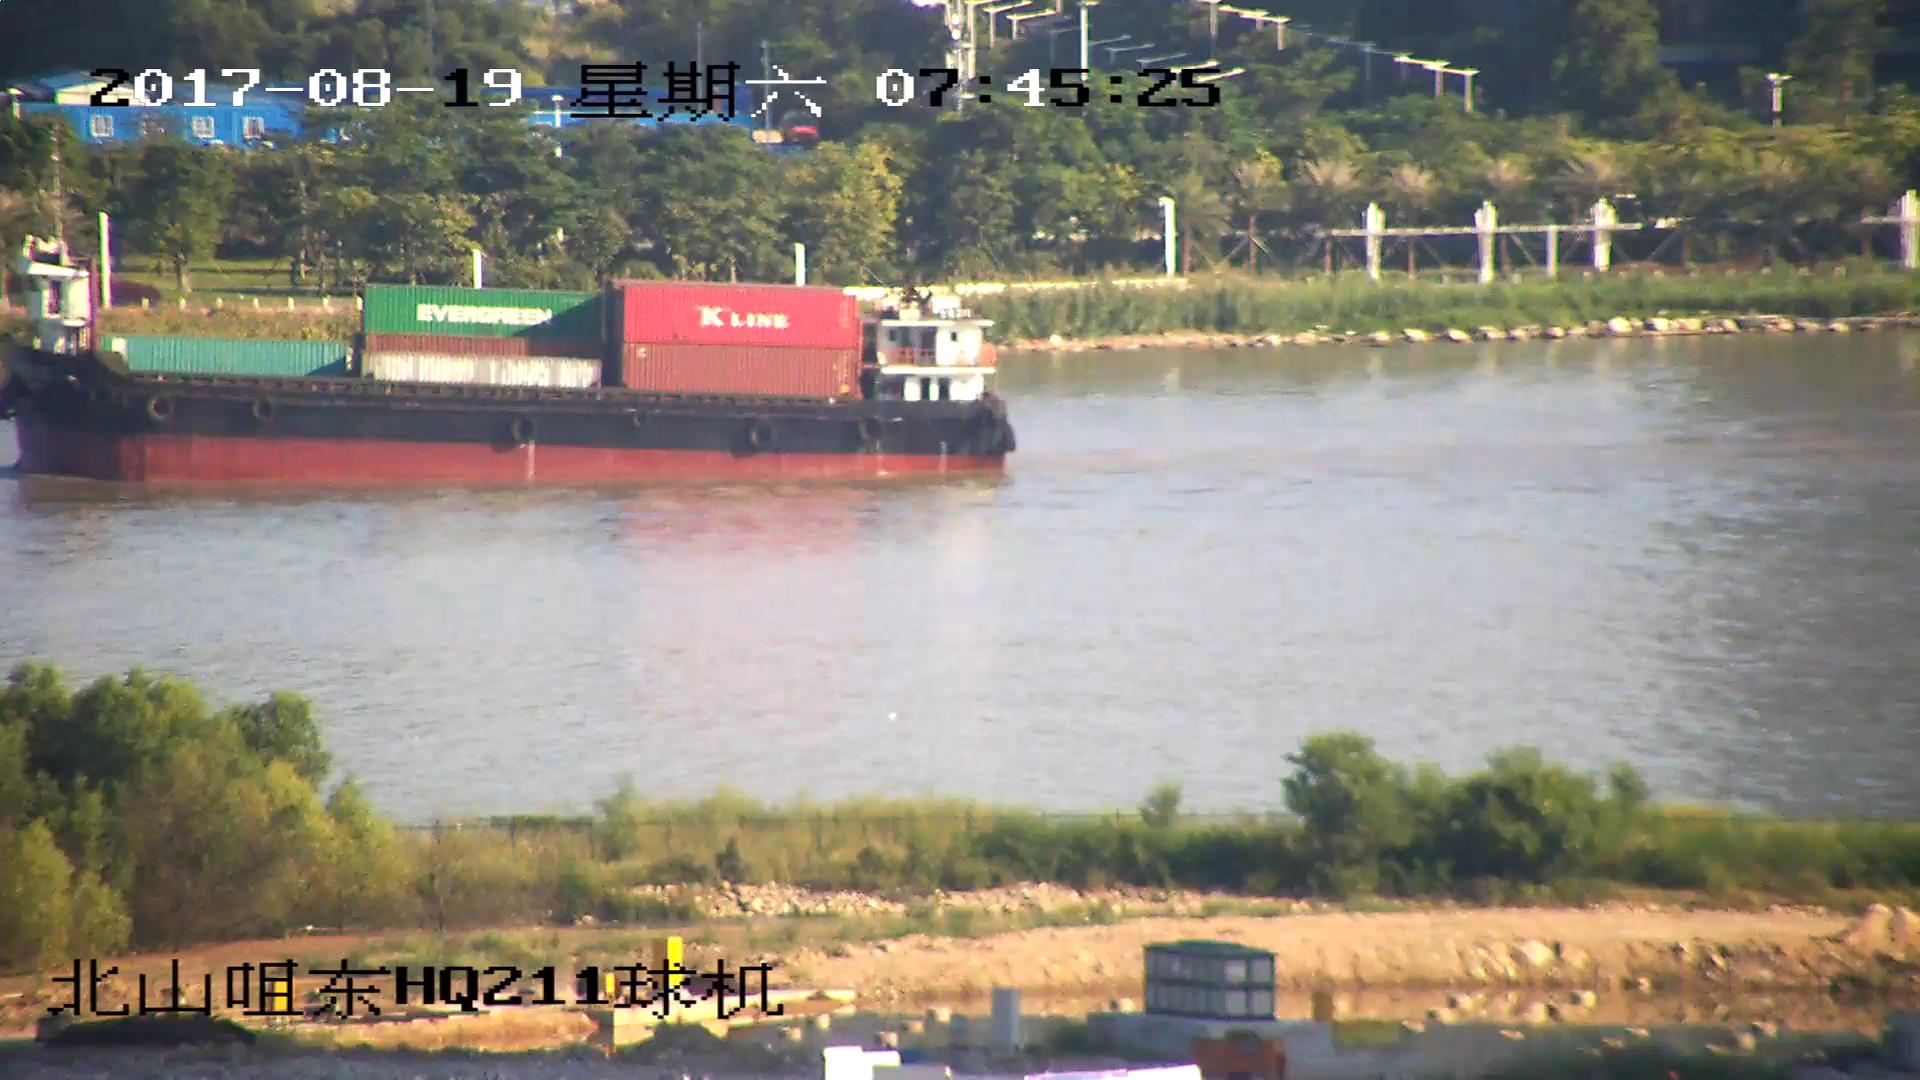container ship: (1, 217, 1014, 487)
